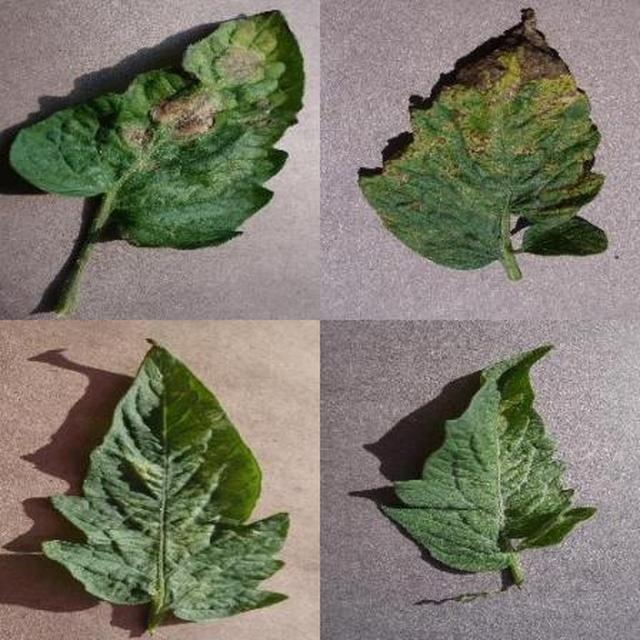Late Blight Leaf: (226, 183, 640, 640)
